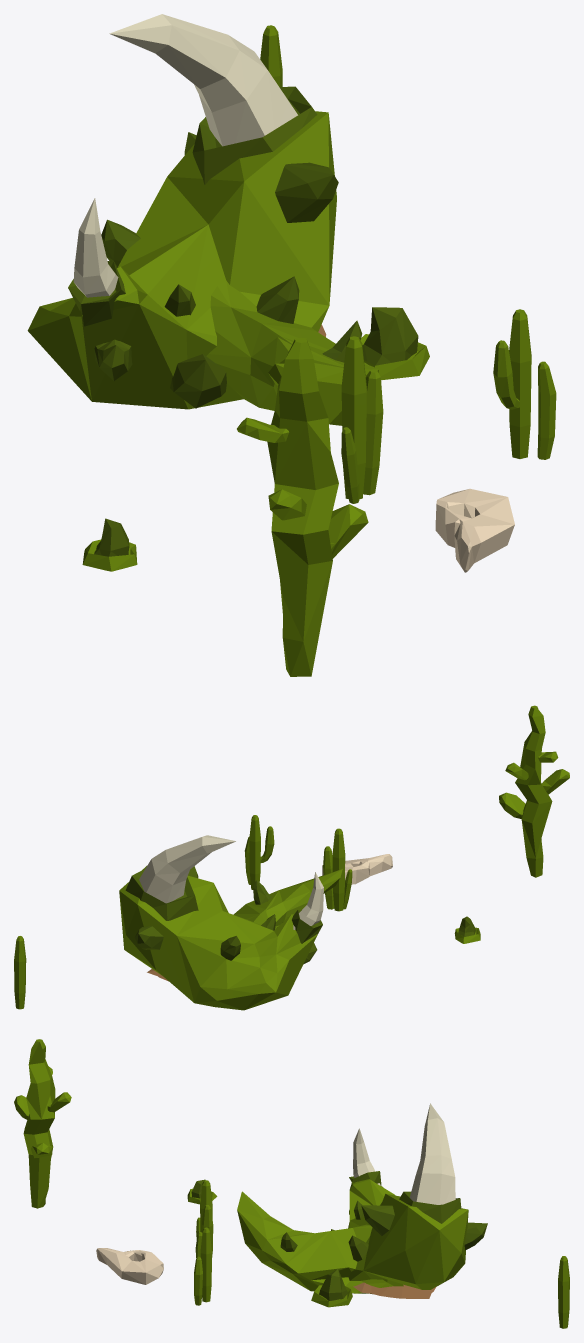
File: desert_assets_3.glb
The picture shows the model from 3 angles, top to bottom: view 1: azimuth 30°, elevation 25°; view 2: azimuth 150°, elevation 25°; view 3: azimuth 270°, elevation 25°; orthographic projection. The views are drawn at different scales.
Visible parts, largest first — view 1: GeoSphere041, Cylinder1142_Color_0, Cylinder1141_Color_0, Cylinder1145_Color_0, Creature_73_Color_0, Cylinder1121_Color_0, Cylinder1140_Color_0, Cylinder1150_Color_0; view 2: GeoSphere041, Cylinder1142_Color_0, Cylinder1141_Color_0, Cylinder1145_Color_0, Creature_73_Color_0, Cylinder1150_Color_0, Cylinder1140_Color_0; view 3: GeoSphere041, Cylinder1142_Color_0, Creature_73_Color_0, Cylinder1145_Color_0, Cylinder1121_Color_0, Plane053, Cylinder1150_Color_0, Cylinder1141_Color_0.
Boxes of the visible parts, x1=… form: GeoSphere041: x1=27, y1=14, x2=378, y2=425; Cylinder1142_Color_0: x1=237, y1=337, x2=368, y2=676; Cylinder1141_Color_0: x1=341, y1=336, x2=383, y2=503; Cylinder1145_Color_0: x1=493, y1=309, x2=556, y2=459; Creature_73_Color_0: x1=435, y1=488, x2=514, y2=572; Cylinder1121_Color_0: x1=360, y1=307, x2=429, y2=380; Cylinder1140_Color_0: x1=82, y1=518, x2=137, y2=571; Cylinder1150_Color_0: x1=260, y1=25, x2=282, y2=86; GeoSphere041: x1=119, y1=835, x2=342, y2=1010; Cylinder1142_Color_0: x1=499, y1=705, x2=569, y2=877; Cylinder1141_Color_0: x1=323, y1=828, x2=352, y2=911; Cylinder1145_Color_0: x1=244, y1=815, x2=274, y2=889; Creature_73_Color_0: x1=322, y1=854, x2=392, y2=884; Cylinder1150_Color_0: x1=14, y1=936, x2=26, y2=1009; Cylinder1140_Color_0: x1=454, y1=916, x2=480, y2=943; GeoSphere041: x1=237, y1=1103, x2=487, y2=1294; Cylinder1142_Color_0: x1=14, y1=1039, x2=71, y2=1208; Creature_73_Color_0: x1=96, y1=1248, x2=163, y2=1284; Cylinder1145_Color_0: x1=194, y1=1227, x2=211, y2=1305; Cylinder1121_Color_0: x1=311, y1=1269, x2=352, y2=1307; Plane053: x1=353, y1=1282, x2=436, y2=1298; Cylinder1150_Color_0: x1=558, y1=1256, x2=569, y2=1328; Cylinder1141_Color_0: x1=196, y1=1180, x2=213, y2=1257.
Size of the model in its own units: 2.51 by 1.5 by 4.3.
Materials: 1 (1 with a texture image).
